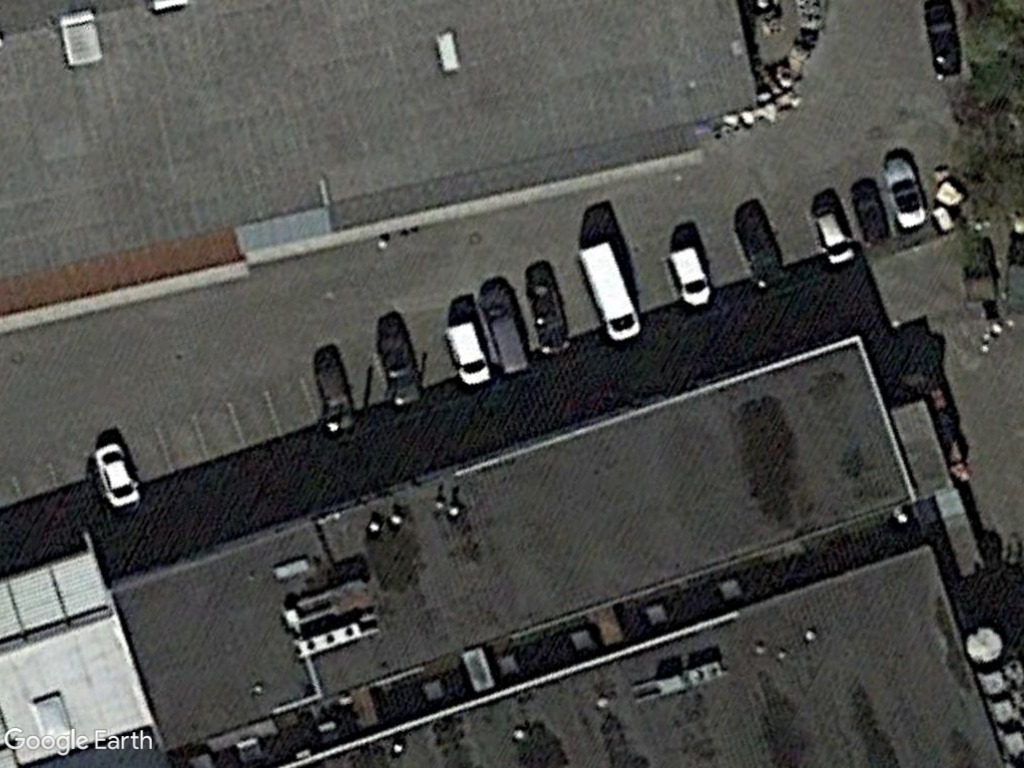car: (93, 442, 144, 515), (810, 201, 855, 270)
van: (575, 240, 645, 348), (443, 318, 495, 389), (663, 243, 715, 311)
